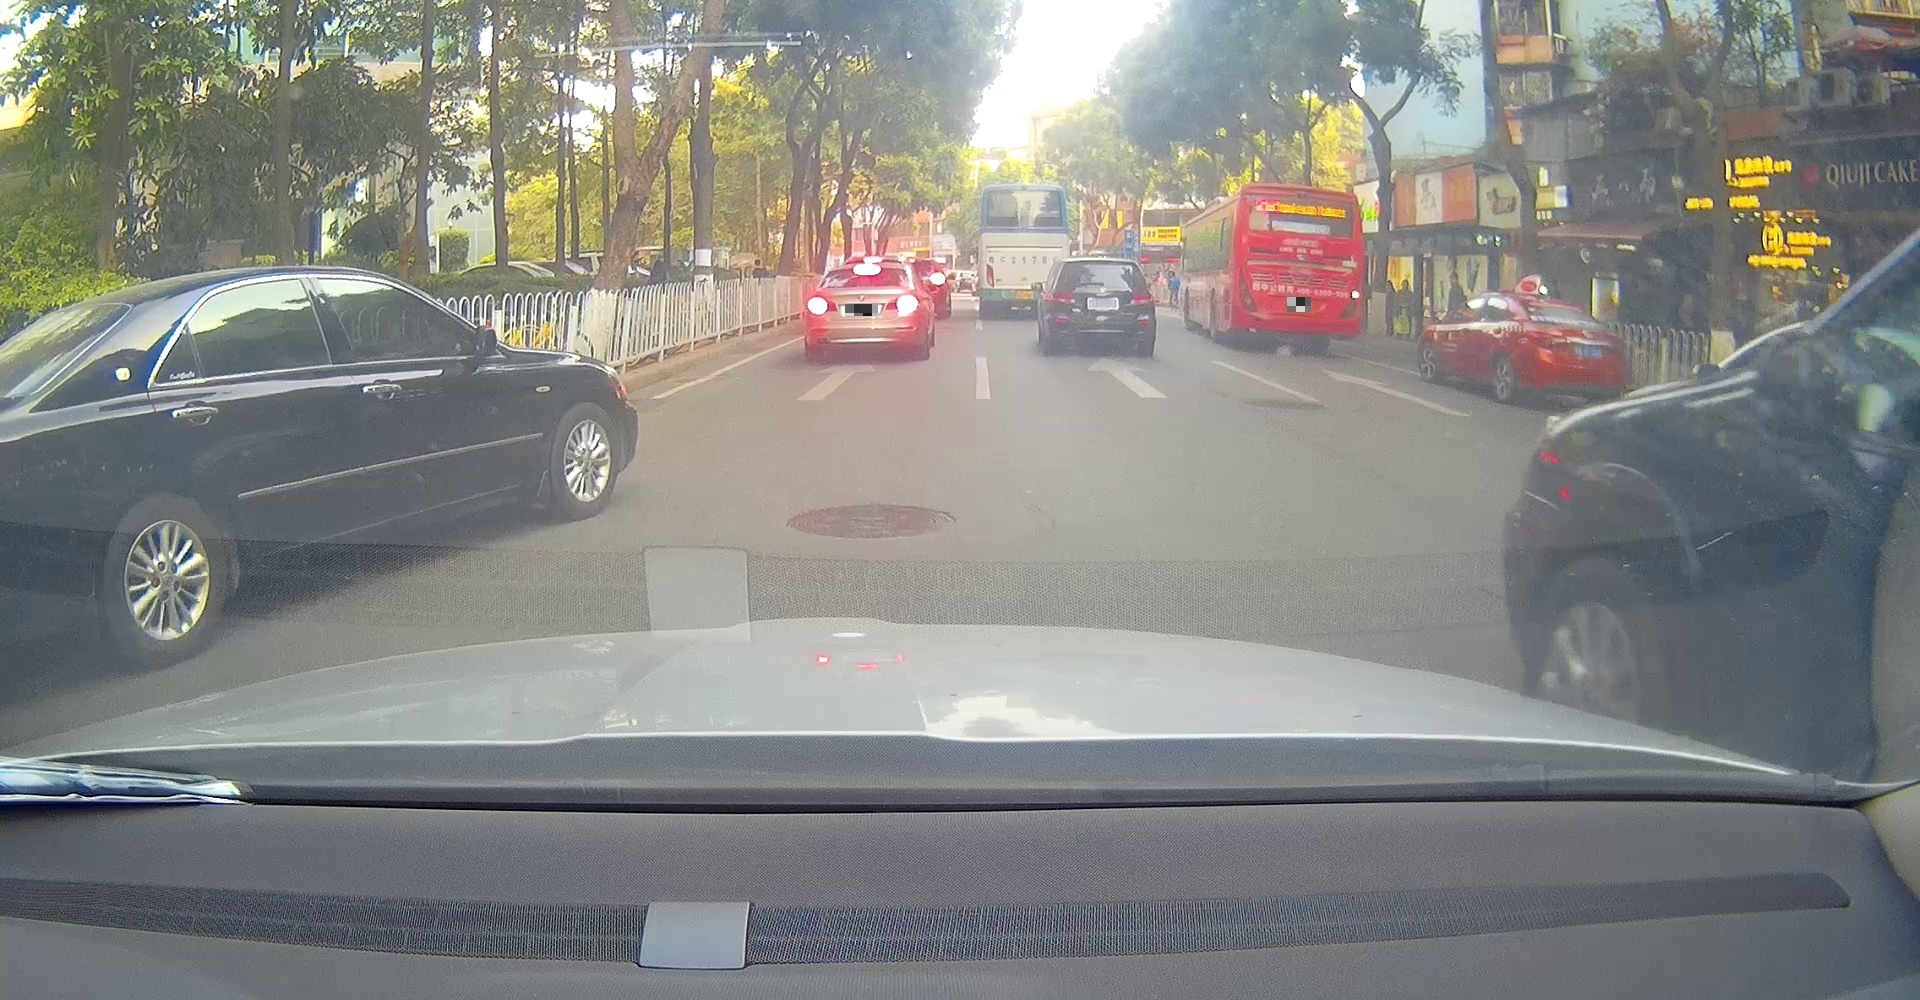L_light: (1238, 266, 1257, 312), (1525, 330, 1570, 349), (806, 296, 837, 315), (1046, 292, 1076, 305)
R_light: (1338, 280, 1360, 319), (885, 293, 919, 313), (1609, 340, 1625, 358), (1129, 293, 1153, 305)
T_light: (852, 263, 883, 275), (1550, 299, 1570, 308), (1294, 192, 1310, 198), (1095, 259, 1111, 264)
day-brake: (804, 261, 921, 360)
day-no: (1516, 293, 1625, 406), (1044, 258, 1154, 357)
day-right: (1230, 183, 1365, 354)
plate_1: (844, 305, 877, 316)
plate_2: (1288, 297, 1310, 312)
